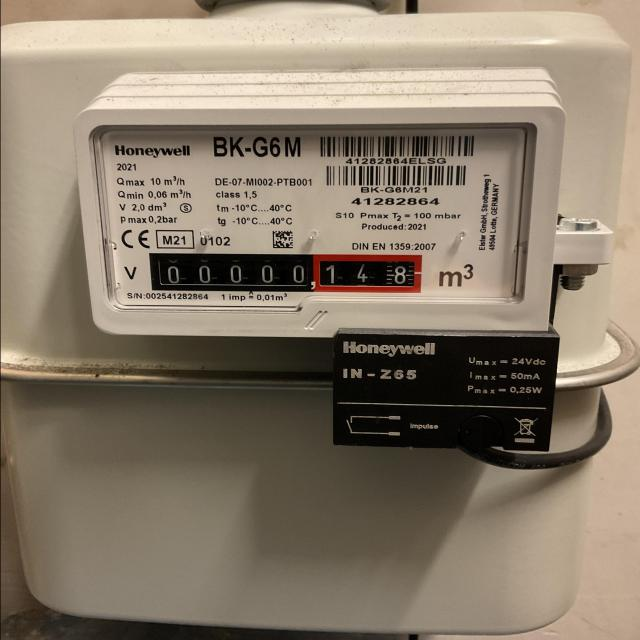gaz_meter: (93, 122, 529, 306)
indication: (148, 254, 421, 292)
